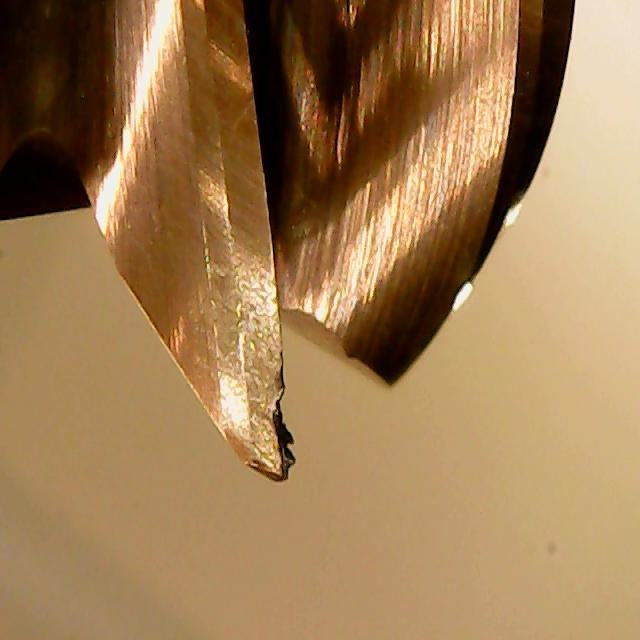Tool-wear-class-1: (184, 252, 309, 478)
